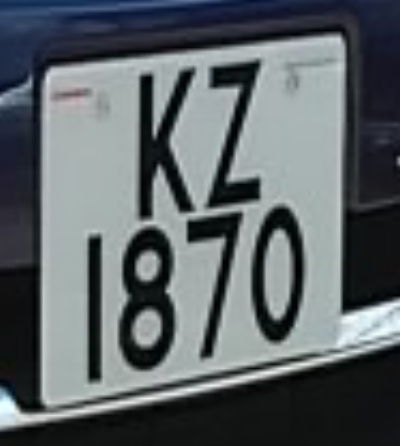0: (239, 200, 320, 351)
1: (68, 226, 114, 390)
7: (176, 207, 252, 373)
8: (106, 224, 187, 383)
K: (122, 61, 203, 227)
Z: (196, 50, 275, 214)
